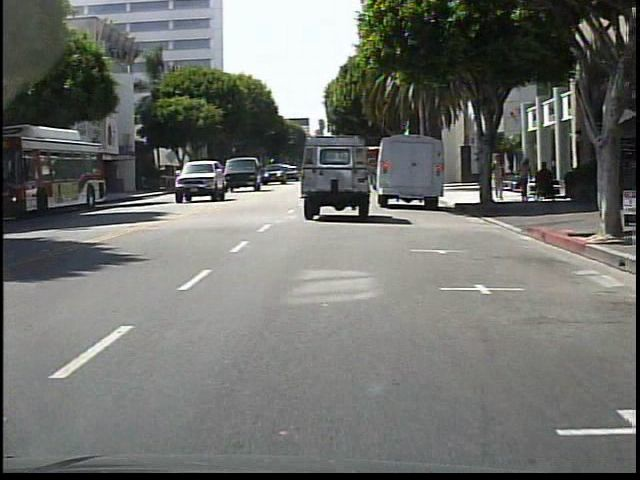person: (489, 155, 505, 204), (516, 160, 531, 202)
